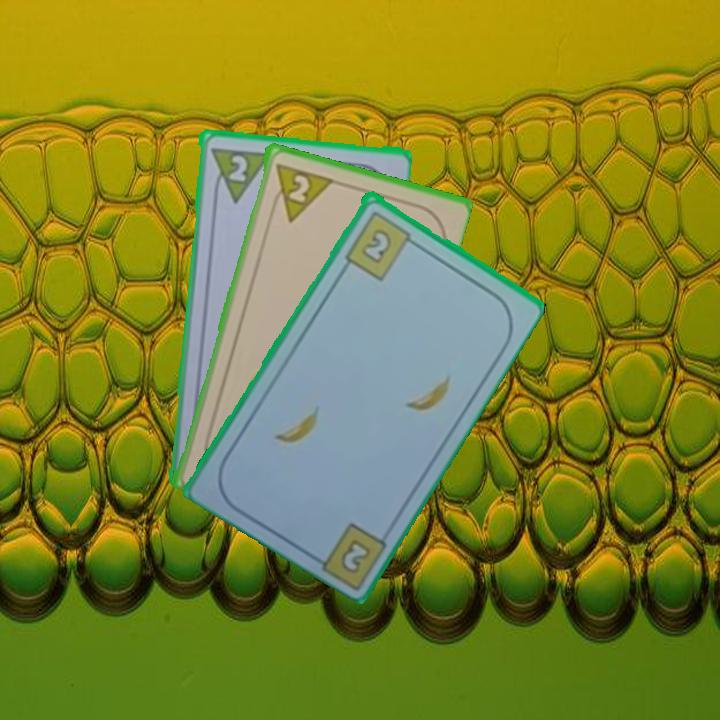2b: (341, 207, 420, 283), (339, 539, 371, 573)
2p: (268, 159, 333, 224), (206, 143, 270, 205)
